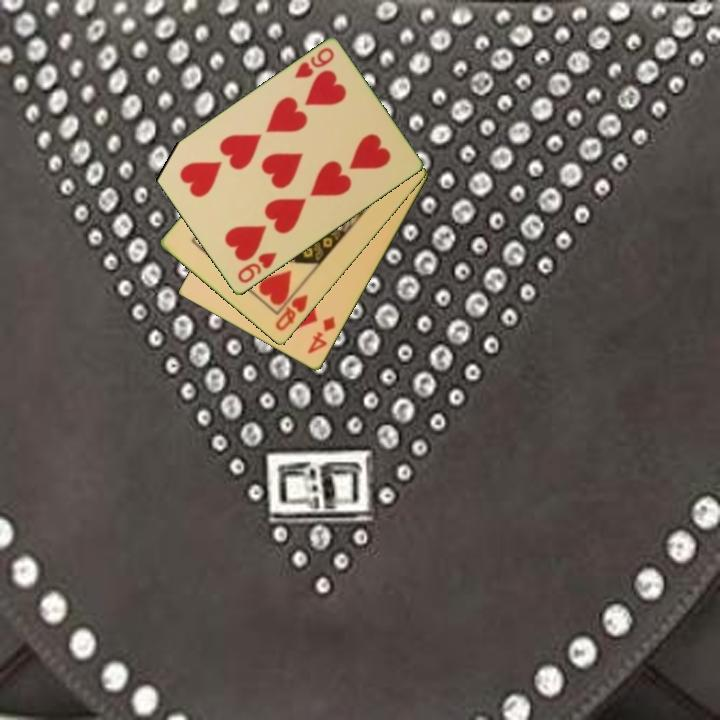4d: (304, 313, 339, 357)
9h: (290, 44, 337, 82), (234, 249, 280, 287)
Qh: (272, 291, 311, 334)
